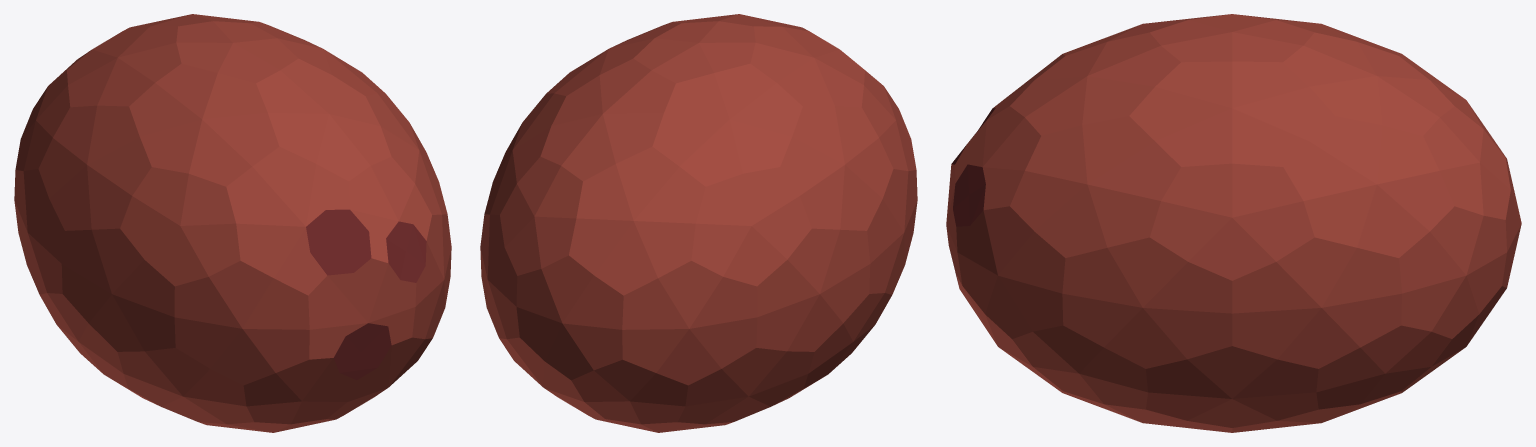
Rendered from coco.fbx.
3 renders of one model, left to right at view 1: azimuth 30°, elevation 25°; view 2: azimuth 150°, elevation 25°; view 3: azimuth 270°, elevation 25°, orthographic. The views are drawn at different scales.
Visible parts, largest first — view 1: Icosphere; view 2: Icosphere; view 3: Icosphere.
Part boxes in pixels (x1=…): Icosphere: x1=14, y1=14, x2=451, y2=432; Icosphere: x1=480, y1=14, x2=917, y2=432; Icosphere: x1=946, y1=14, x2=1521, y2=432.
Size of the model in its own units: 185 by 186 by 253.
Materials: 1 (1 with a texture image).
